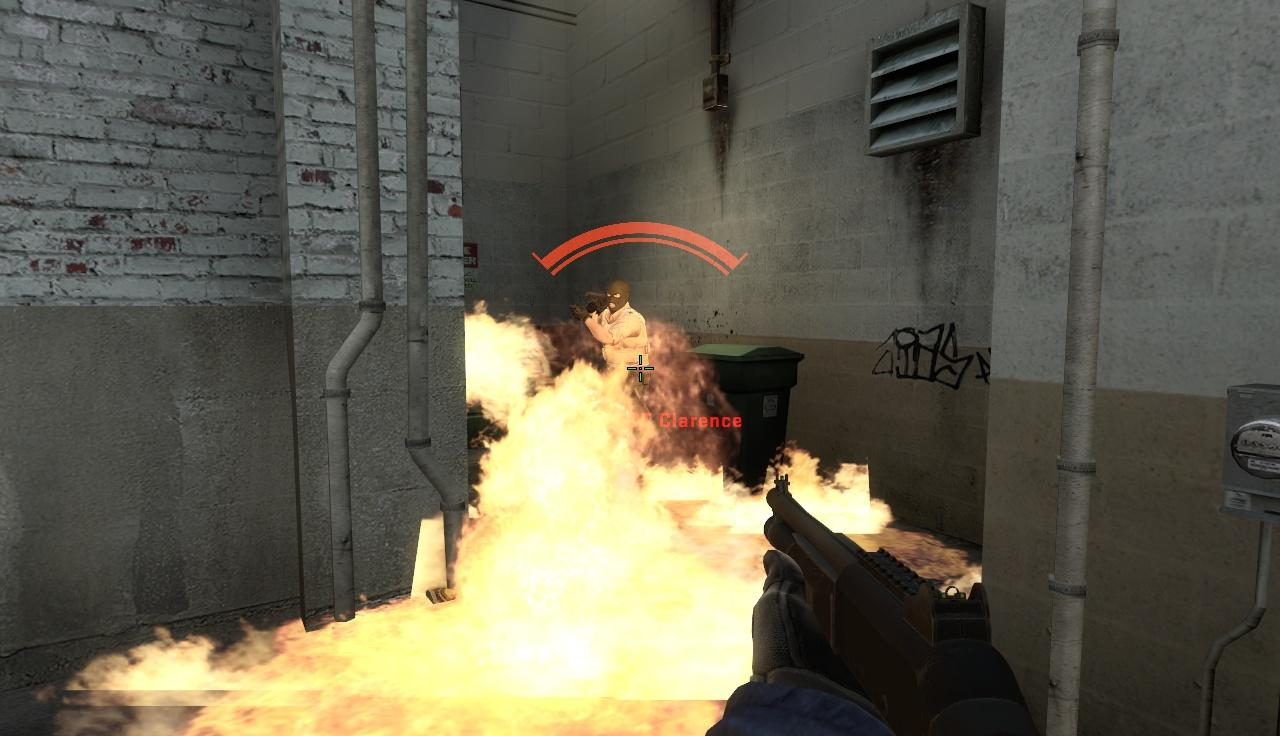shotgun: (758, 477, 1050, 736)
tt: (585, 279, 651, 383)
tthead: (605, 280, 630, 311)
